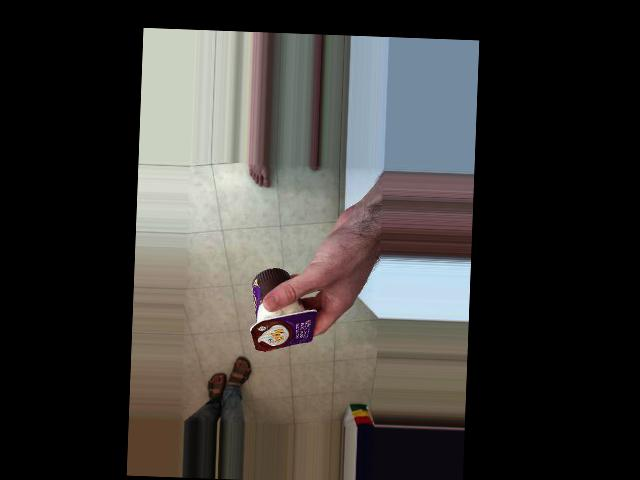milky: (218, 294, 307, 359)
